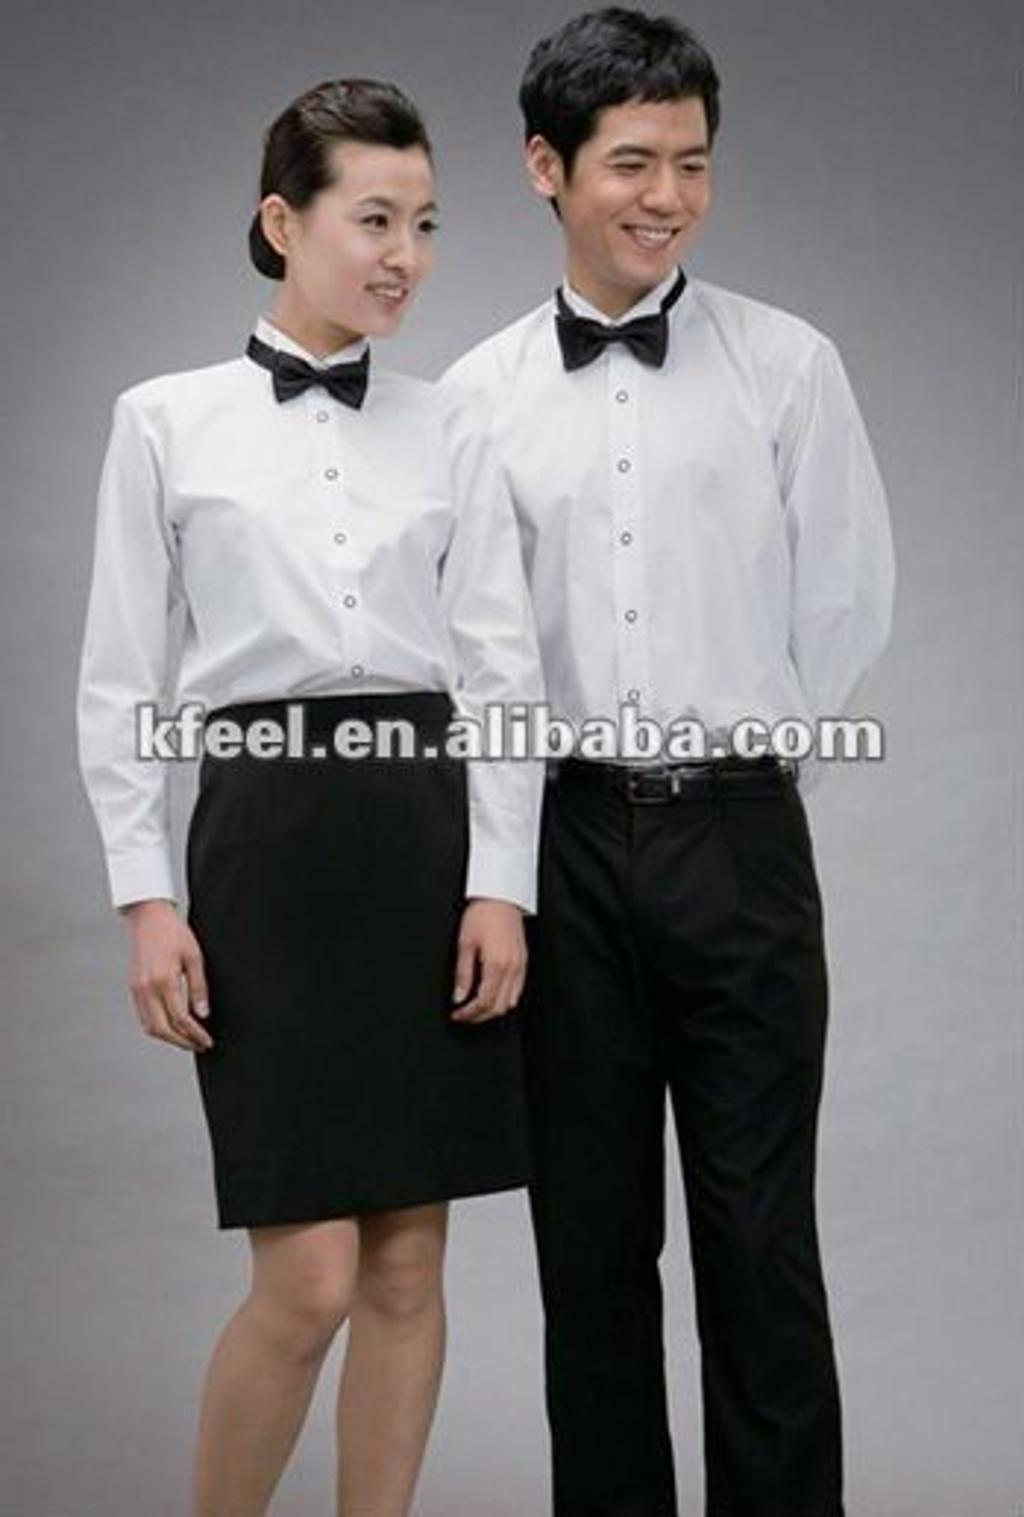face: (296, 133, 441, 331), (580, 86, 710, 281)
